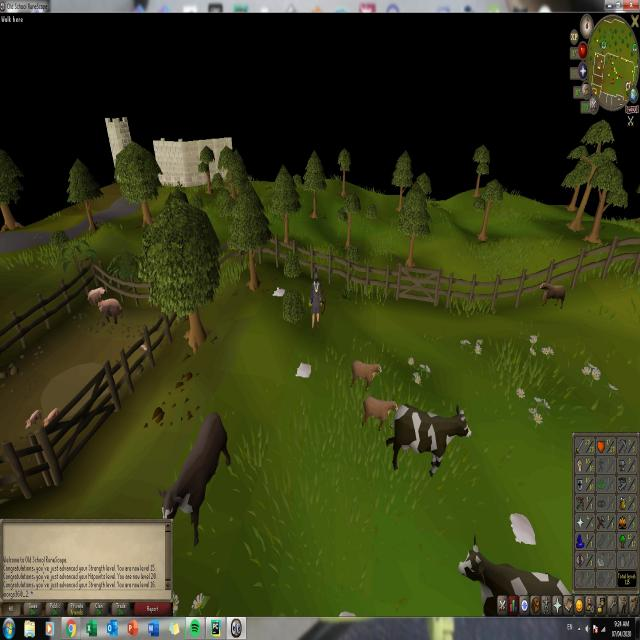cow: (162, 414, 232, 547), (454, 539, 572, 615), (386, 393, 472, 476)
